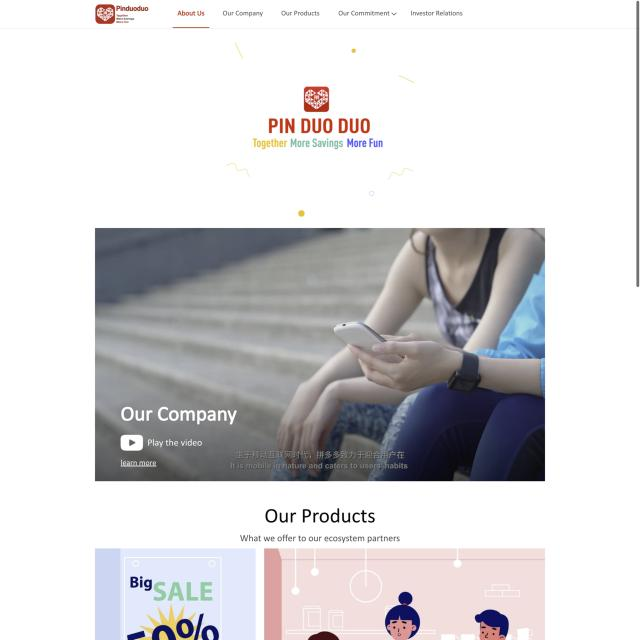logo: (91, 3, 150, 25)
navigation: (168, 2, 467, 31)
